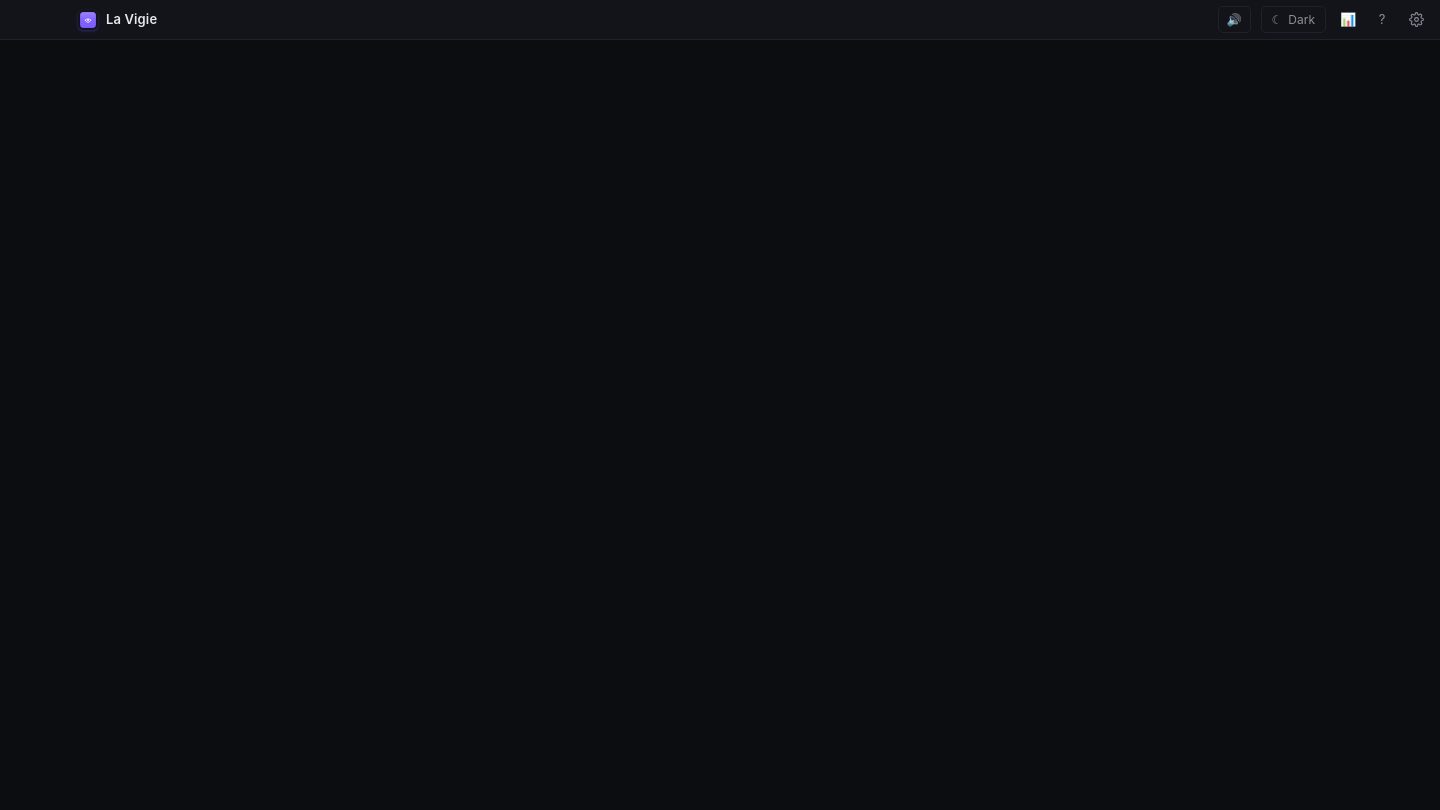
Scenario: TitleBar › gear / settings button (TASK-21) › clicking the gear button opens the Settings modal (role=dialog appears)
expect the dialog "Settings" is not shown: met
Click the button named "Settings".
click(1416, 20)  # box [1404,8,1428,32]
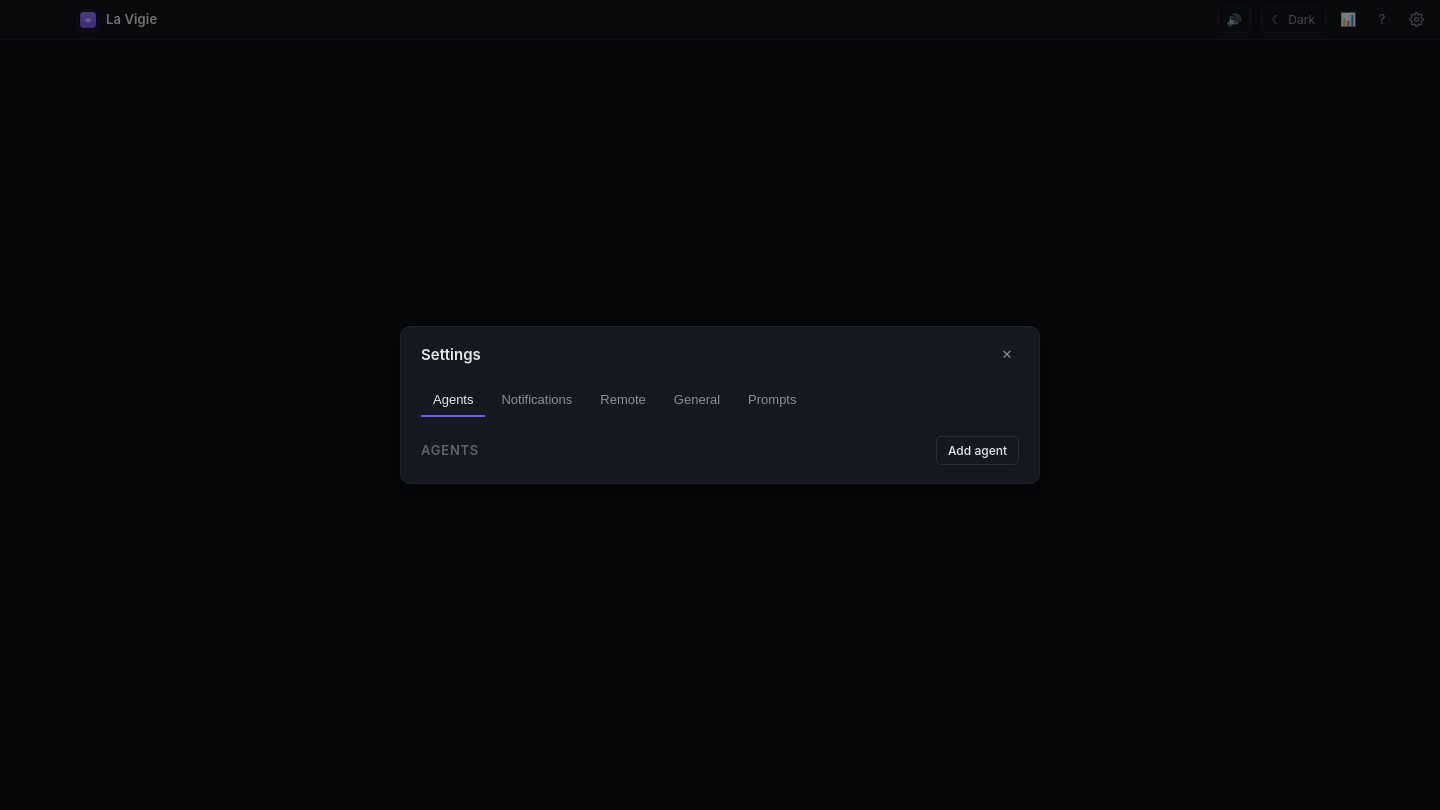
expect the dialog "Settings" is shown: met, box [400,326,1040,484]
